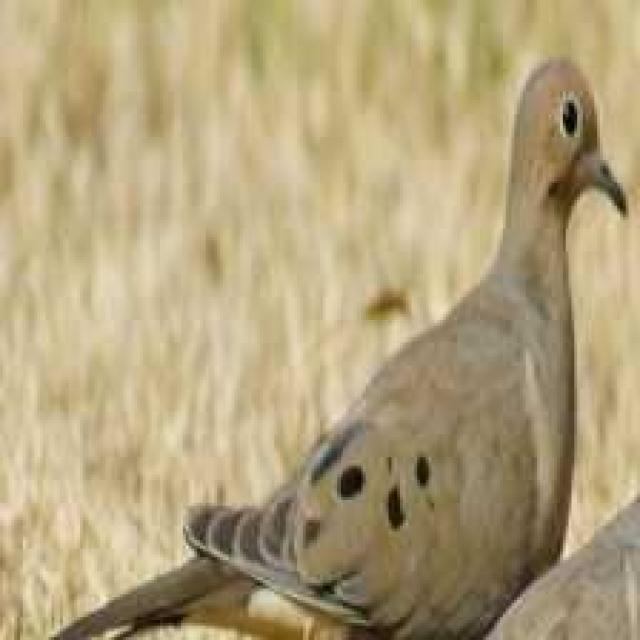bird: (63, 44, 636, 640)
